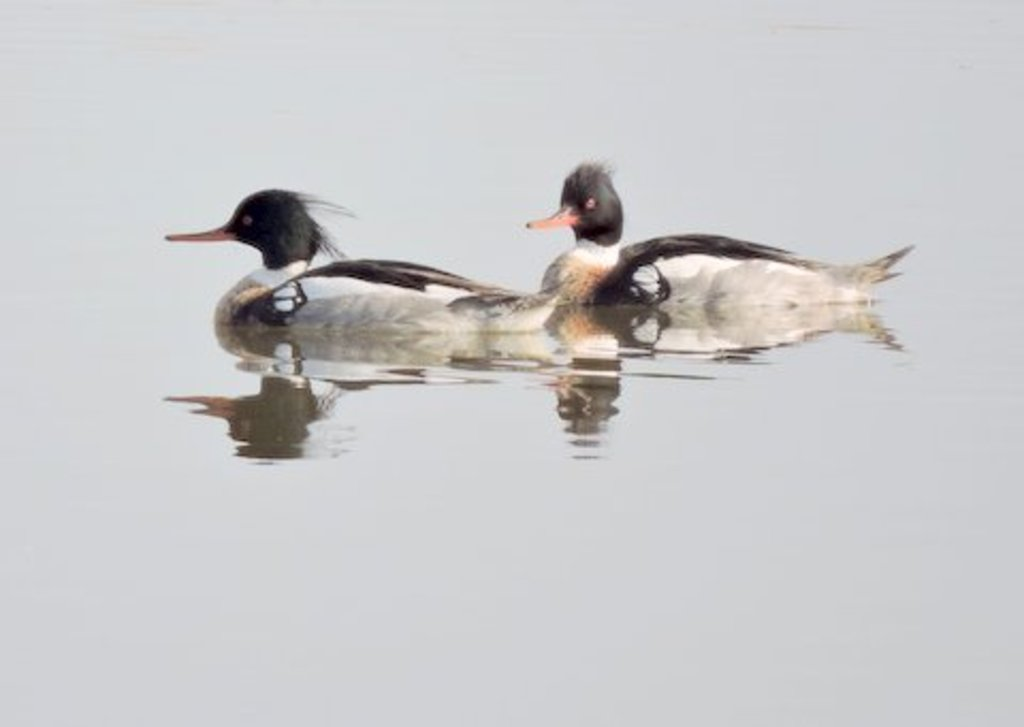person: (159, 185, 521, 383)
